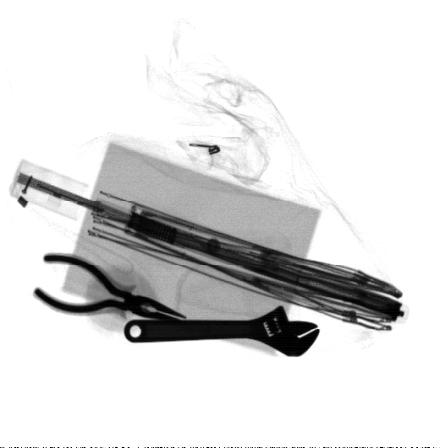Pliers: (31, 253, 193, 328)
Wrench: (123, 303, 321, 357)
